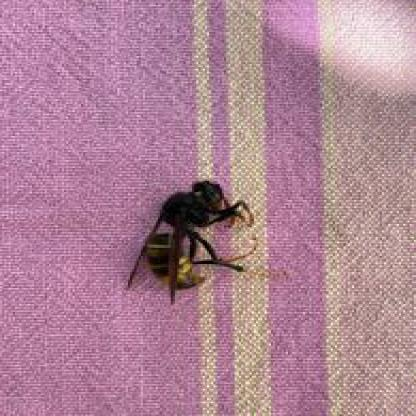Asian Hornet: (119, 176, 258, 301)
